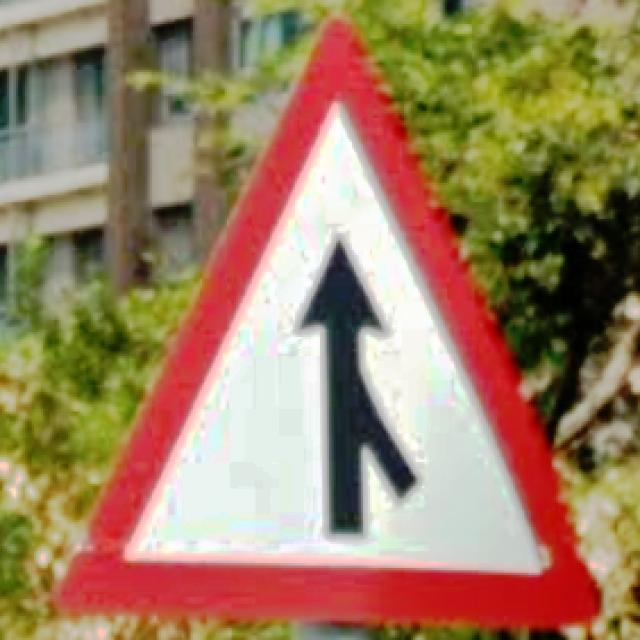rightmerge: (43, 9, 612, 627)
